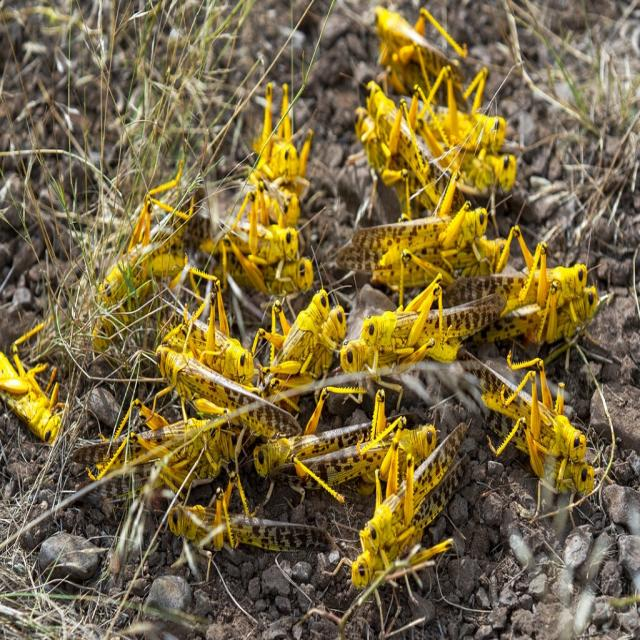ZhaMeng: (152, 346, 299, 436), (162, 495, 331, 571), (469, 353, 591, 458), (344, 192, 484, 275), (362, 276, 503, 357), (306, 409, 436, 494), (371, 70, 451, 204), (4, 315, 74, 466), (257, 74, 319, 189)
